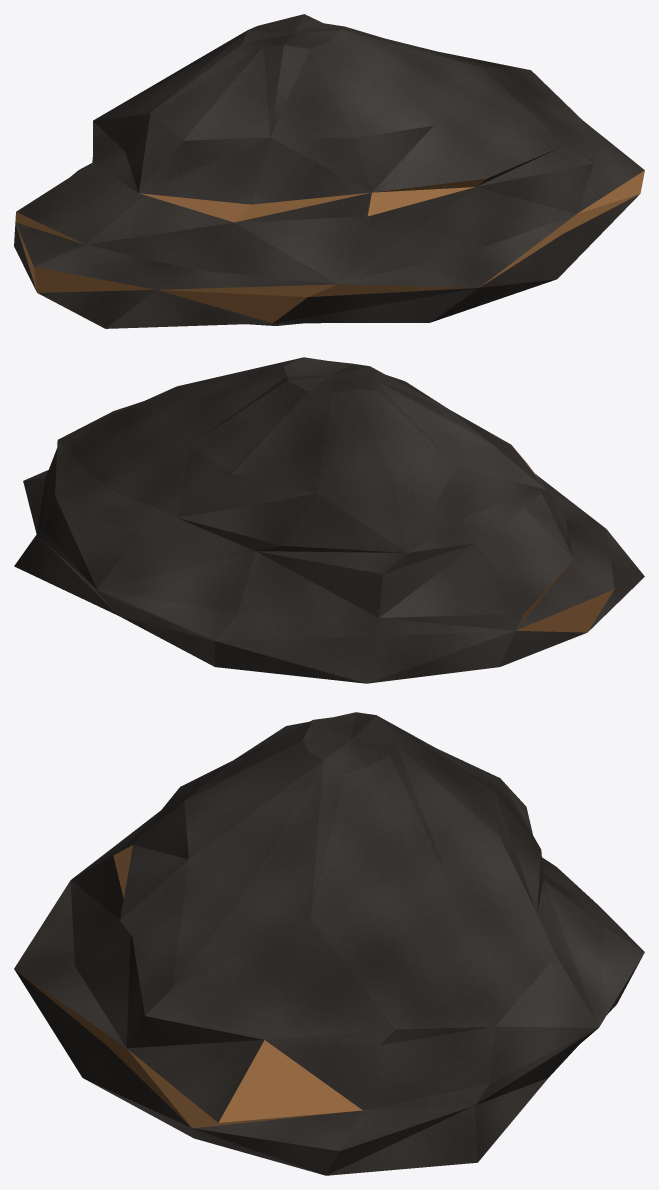
Rendered from DenseMineral_Loose_B.glb.
3 renders of one model, top to bottom at view 1: azimuth 30°, elevation 25°; view 2: azimuth 150°, elevation 25°; view 3: azimuth 270°, elevation 25°, orthographic. The views are drawn at different scales.
Parts seen in each view (by area): view 1: DenseMineral_Loose_B_LOD0; view 2: DenseMineral_Loose_B_LOD0; view 3: DenseMineral_Loose_B_LOD0.
Boxes of the visible parts, box(x1,y1,x2,y2) form: DenseMineral_Loose_B_LOD0: box(14, 14, 644, 328); DenseMineral_Loose_B_LOD0: box(14, 357, 644, 683); DenseMineral_Loose_B_LOD0: box(14, 712, 644, 1175).
Size of what is drawn, in the model's own units: 2.65 by 1.06 by 2.03.
2 materials, 1 textured.
